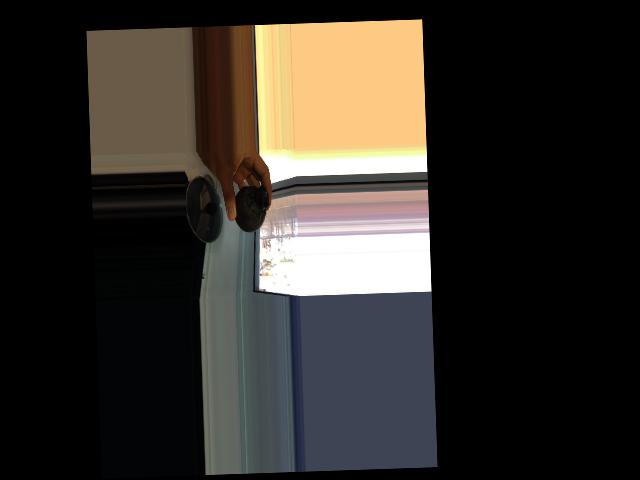beet: (232, 172, 269, 233)
